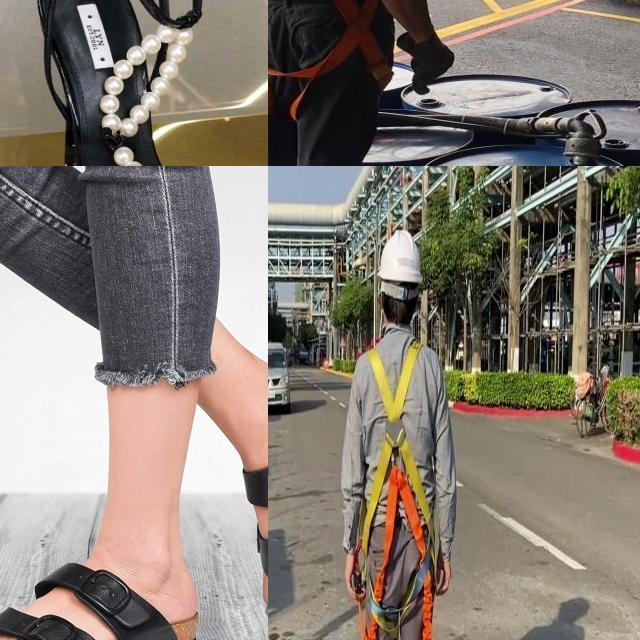Harness: (349, 334, 444, 640), (268, 0, 402, 124)
Sandals: (32, 0, 268, 166), (0, 520, 203, 640), (0, 0, 132, 166), (230, 356, 268, 629)
